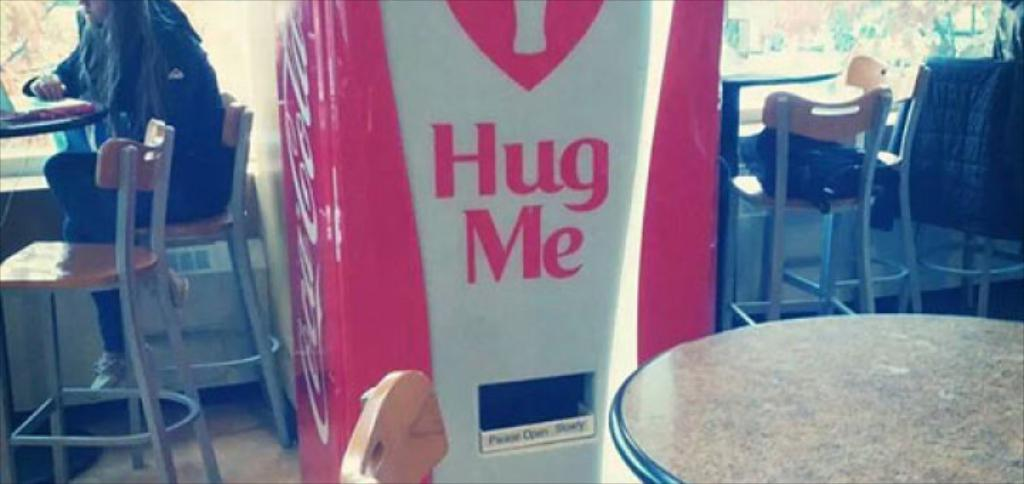Chair: (0, 117, 222, 483), (710, 51, 895, 332)
